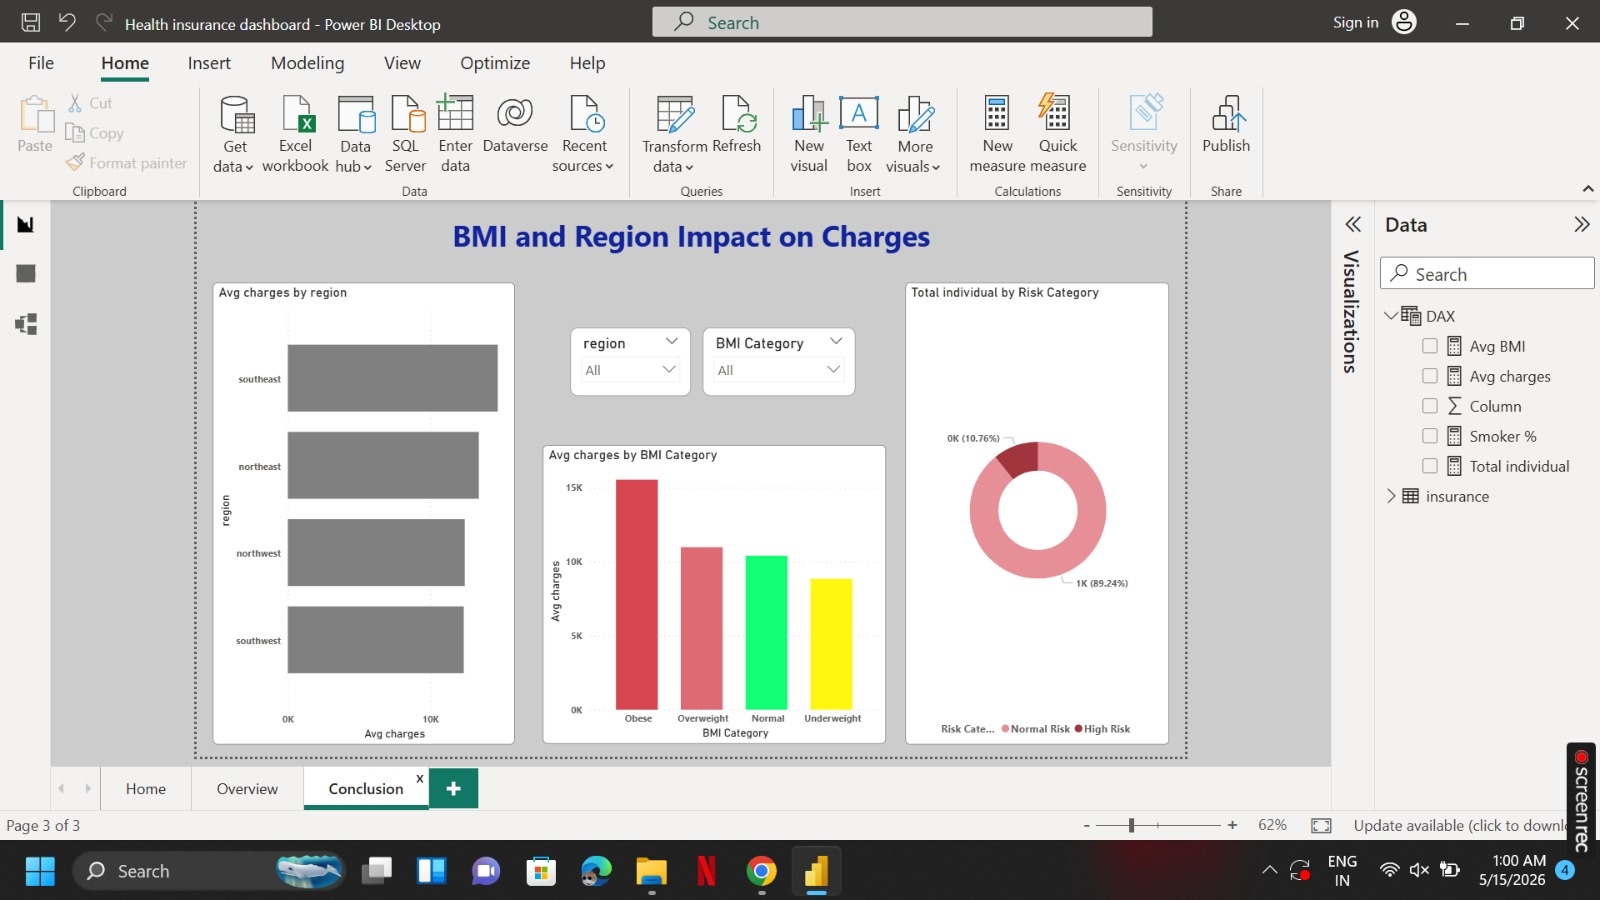

The dashboard page shown, as its layout file describes it:
{"tool":"powerbi","page":{"name":"Conclusion","canvas":[1280,720],"ordinal":2},"visuals":[{"type":"donutChart","fields":{"Category":["insurance.Risk Category"],"Y":["DAX.Total individual"]},"box":[917.3,106.5,341.3,597.7],"z":0},{"type":"columnChart","fields":{"Category":["insurance.BMI Category"],"Y":["DAX.Avg charges"]},"box":[447.8,317.6,443.8,386.6],"z":1000},{"type":"clusteredBarChart","fields":{"Category":["insurance.region"],"Y":["DAX.Avg charges"]},"box":[21.7,106.5,390.6,597.7],"z":2000},{"type":"textbox","box":[0,13.8,1280.2,73],"z":3000},{"type":"textbox","box":[0,23.8,1280.2,73],"z":4000},{"type":"textbox","box":[0,33.8,1280.2,73],"z":5000},{"type":"textbox","box":[0,13.8,1280.2,82.8],"z":6000},{"type":"slicer","fields":{"Values":["insurance.BMI Category"]},"box":[654.9,165.7,197.3,88.8],"z":7000},{"type":"slicer","fields":{"Values":["insurance.region"]},"box":[483.3,165.7,155.8,88.8],"z":8000}]}

Visuals, with their boxes on the page's 1280x720 design canvas (x1, y1, x2, y2). These are canvas units, not pixel positions in the 1600x900 screenshot, which may show the page scaled, cropped or inside an application window:
donutChart - insurance.Risk Category x DAX.Total individual: region(917, 106, 1259, 704)
columnChart - insurance.BMI Category x DAX.Avg charges: region(448, 318, 892, 704)
clusteredBarChart - insurance.region x DAX.Avg charges: region(22, 106, 412, 704)
textbox: region(0, 14, 1280, 87)
textbox: region(0, 24, 1280, 97)
textbox: region(0, 34, 1280, 107)
textbox: region(0, 14, 1280, 97)
slicer - insurance.BMI Category: region(655, 166, 852, 254)
slicer - insurance.region: region(483, 166, 639, 254)
